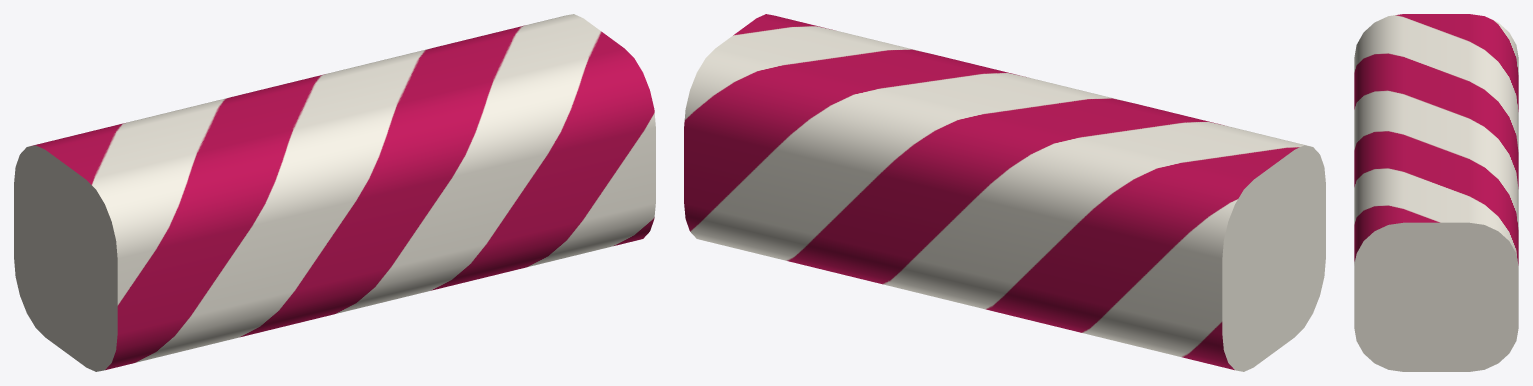
File: BgMD_guard_takamura_01.fbx
The picture shows the model from 3 angles, left to right: view 1: azimuth 30°, elevation 25°; view 2: azimuth 150°, elevation 25°; view 3: azimuth 270°, elevation 25°; orthographic projection. The views are drawn at different scales.
Parts seen in each view (by area): view 1: pCube1; view 2: pCube1; view 3: pCube1.
Part boxes in pixels (x1=…): pCube1: x1=14, y1=14, x2=655, y2=371; pCube1: x1=684, y1=14, x2=1325, y2=371; pCube1: x1=1354, y1=14, x2=1518, y2=371.
Size of the model in its own units: 3 by 1 by 1.
